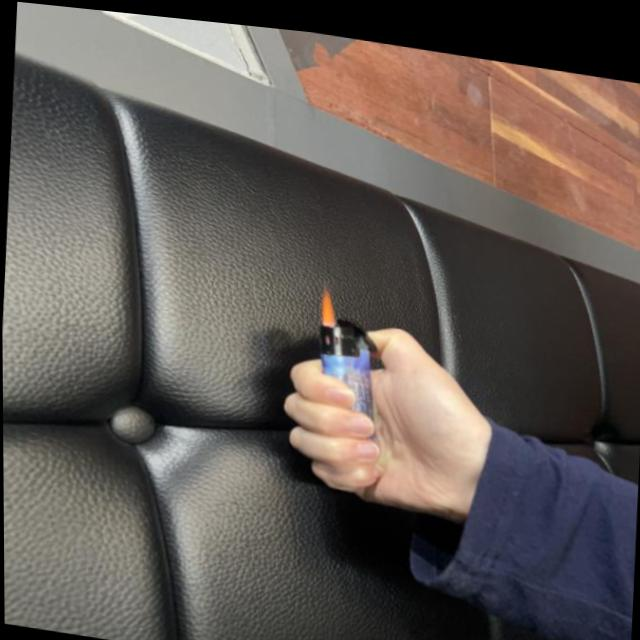Fire: (318, 282, 336, 320)
